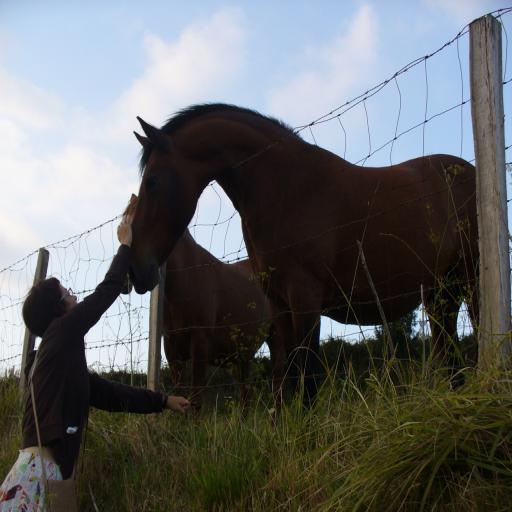horse: (126, 104, 481, 420), (120, 190, 272, 396)
